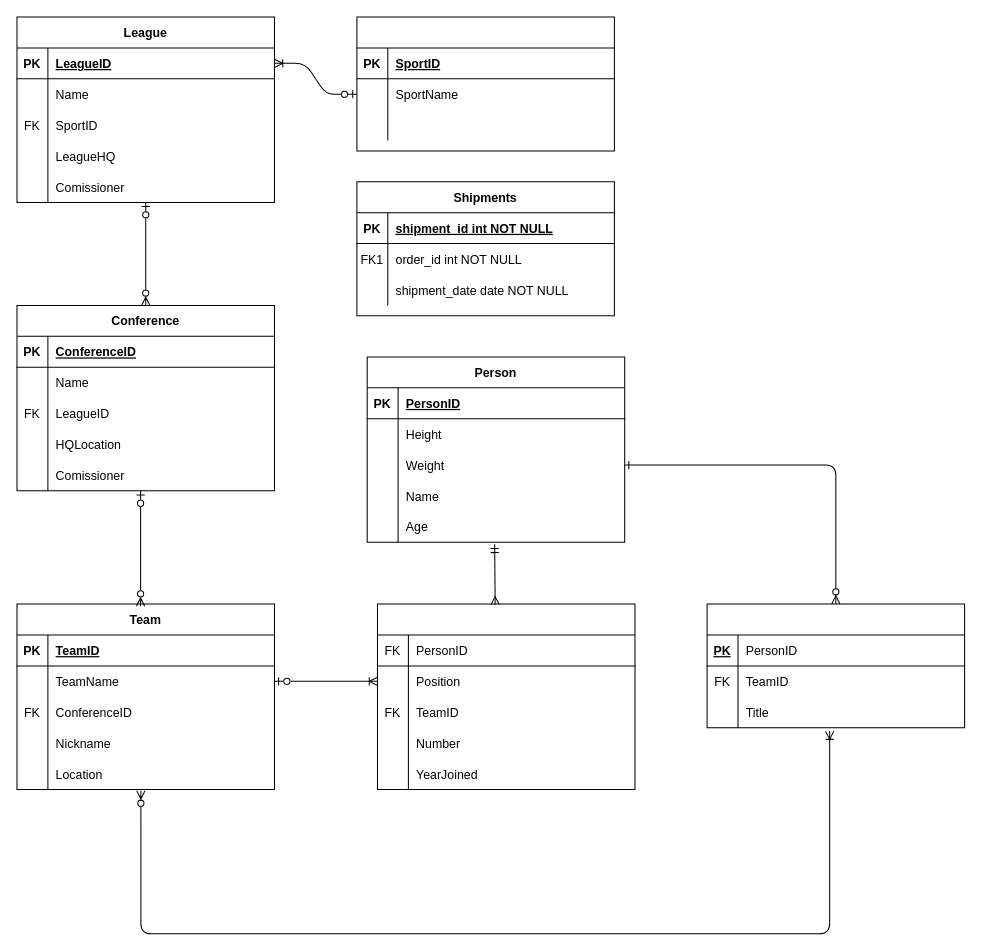
Image size: 982x951. Some labels were removed from this diagram. The box of each missing label's shape, as (x1, y1, x2, y2) in pixels:
Coaches: (706, 603, 965, 728)
Player: (376, 603, 635, 789)
Sports: (356, 16, 614, 151)
